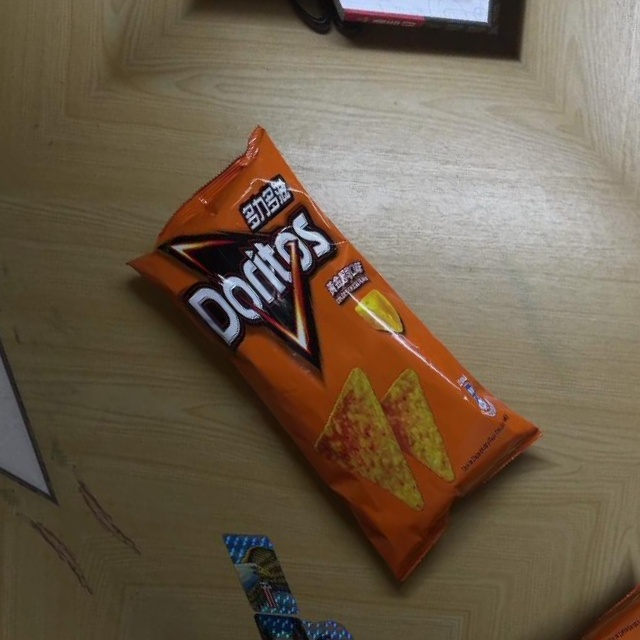Doritos: (107, 110, 561, 592)
